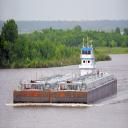tugboat: (75, 36, 103, 97)
